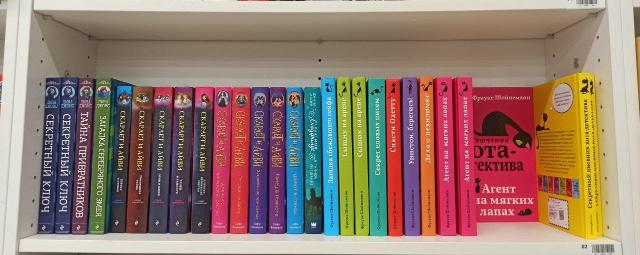book-s-spine: (126, 87, 153, 234), (38, 77, 62, 235), (88, 79, 111, 235), (149, 87, 173, 234), (169, 87, 193, 234), (72, 78, 94, 235), (55, 78, 76, 235), (110, 86, 132, 234), (191, 87, 213, 234), (230, 88, 251, 234), (458, 77, 477, 236), (579, 73, 597, 240), (249, 87, 269, 234), (438, 77, 456, 236), (321, 78, 339, 236), (369, 79, 387, 237), (212, 87, 231, 234), (337, 78, 354, 237), (352, 77, 369, 236), (386, 79, 403, 237), (403, 78, 420, 236), (304, 87, 322, 235), (420, 77, 436, 236), (269, 87, 286, 234), (287, 87, 303, 234)
